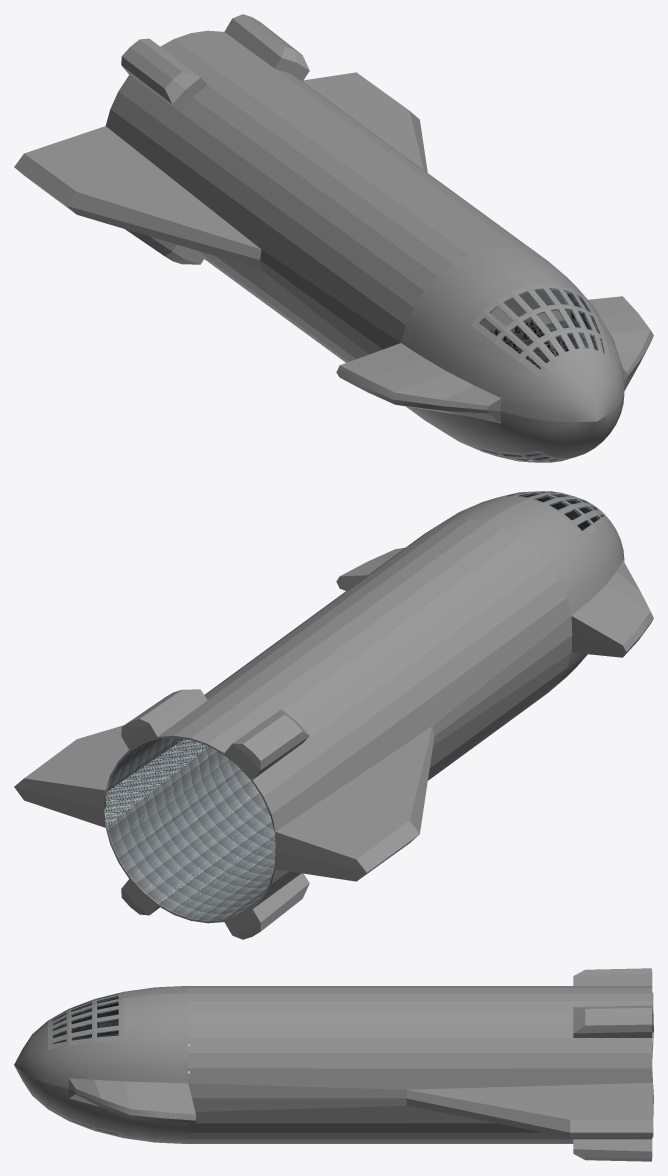
The model's file is starship.FBX.
3 views of the same model, one above another, from view 1: azimuth 30°, elevation 25°; view 2: azimuth 150°, elevation 25°; view 3: azimuth 270°, elevation 25° (orthographic). The views are drawn at different scales.
Parts seen in each view (by area): view 1: Sphere001, Cylinder001; view 2: Sphere001; view 3: Sphere001.
Boxes of the visible parts, box(x1,y1,x2,y2) form: Sphere001: box(14, 14, 653, 462); Cylinder001: box(480, 290, 571, 332); Sphere001: box(14, 491, 653, 939); Sphere001: box(14, 968, 653, 1161).
Bounding box in the file's own units: 387 × 205 × 772.
